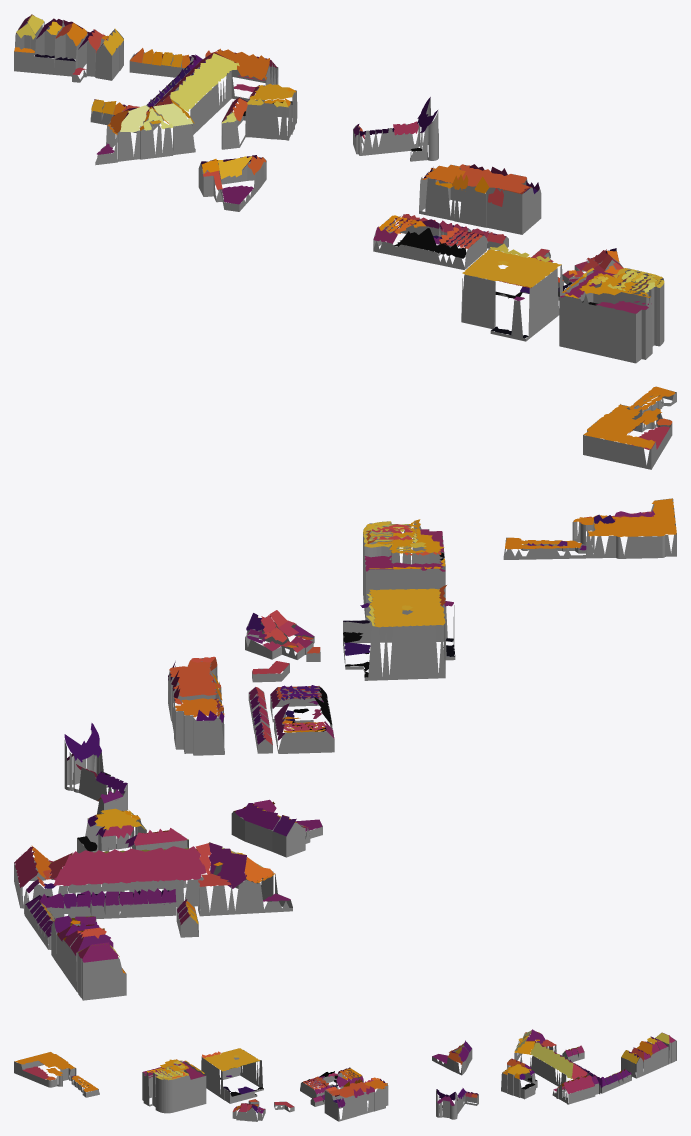
The model's file is binnenstad_85000_447000.glb.
The picture shows the model from 3 angles, top to bottom: view 1: azimuth 30°, elevation 25°; view 2: azimuth 150°, elevation 25°; view 3: azimuth 270°, elevation 25°; orthographic projection. The views are drawn at different scales.
Bounding box in the file's own units: 93.53 × 19.76 × 336.
